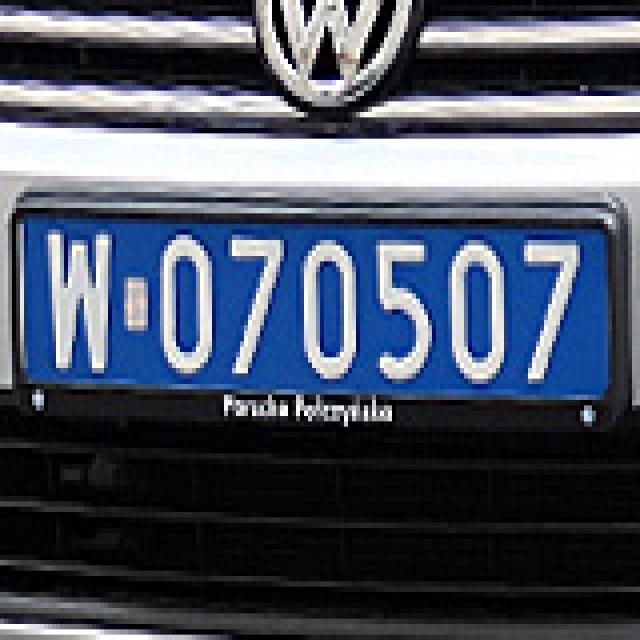pl_license_plate: (16, 213, 604, 390)
